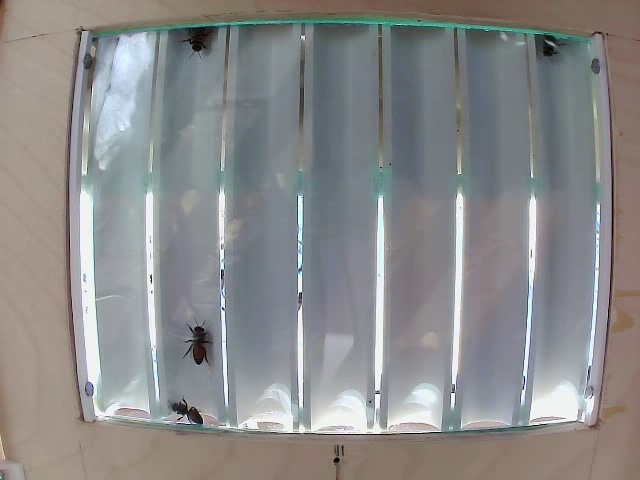bee: (178, 317, 210, 356)
